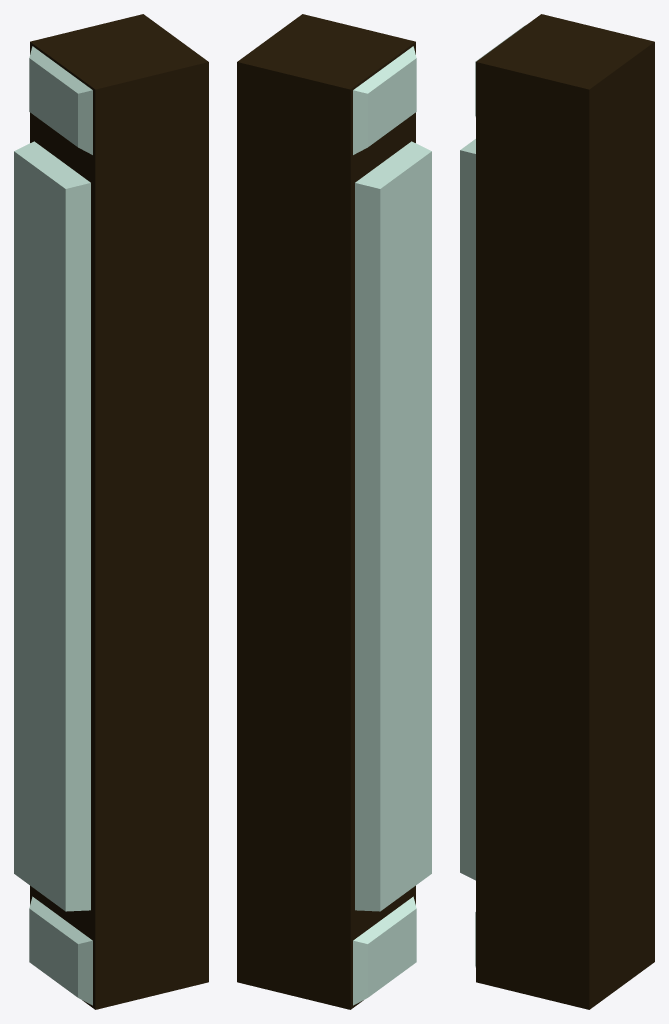
The model's file is banner-holder-v2.glb.
3 views of the same model, side by side, from view 1: azimuth 30°, elevation 25°; view 2: azimuth 150°, elevation 25°; view 3: azimuth 330°, elevation 25° (orthographic).
Visible parts, largest first — view 1: Cube002; view 2: Cube002; view 3: Cube002.
Part boxes in pixels (x1=…): Cube002: x1=14, y1=14, x2=208, y2=1009; Cube002: x1=237, y1=14, x2=431, y2=1009; Cube002: x1=460, y1=14, x2=654, y2=1009.
Size of the model in its own units: 16.1 by 104 by 13.41.
Materials: 1 (1 with a texture image).
